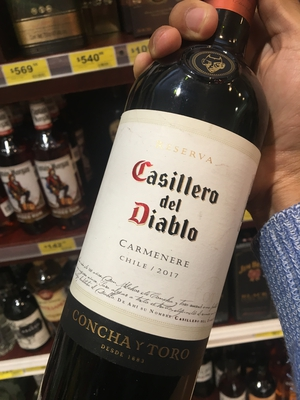casillero del diablo carmenere: (53, 34, 253, 400)
